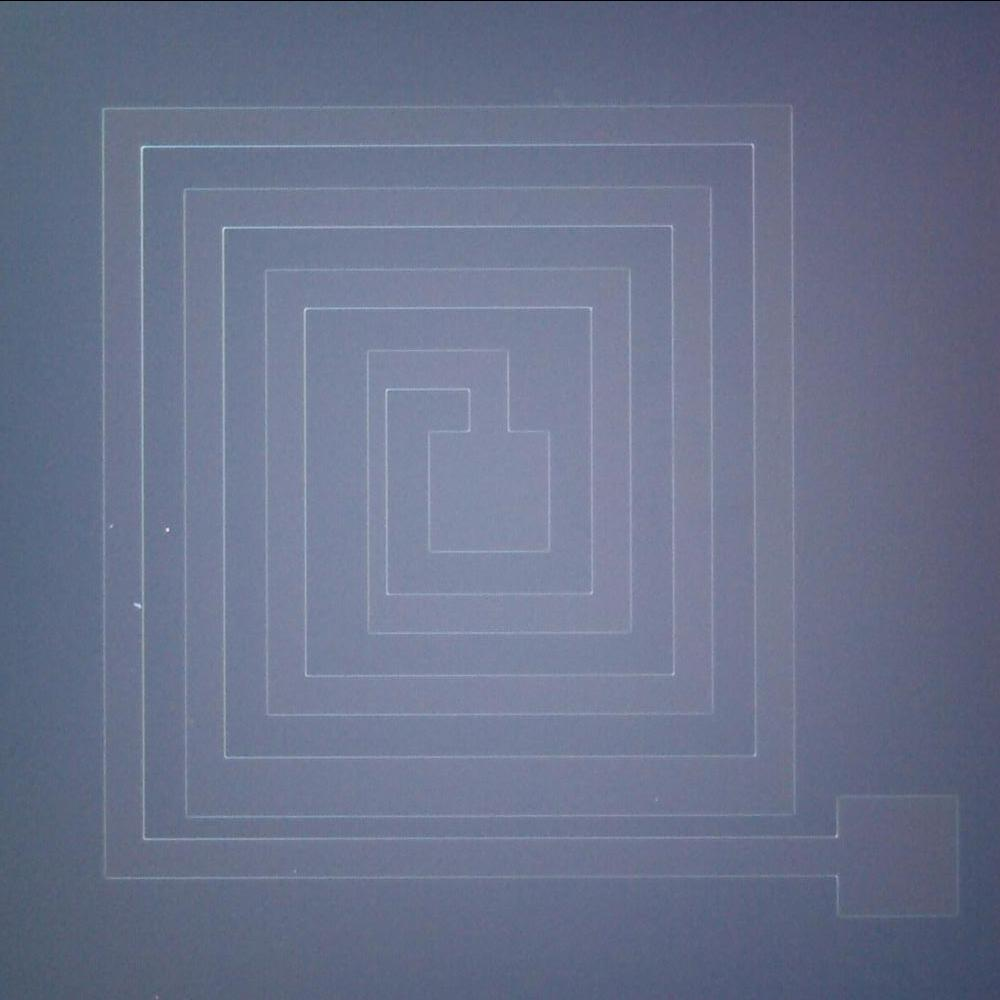dot: (123, 586, 154, 619), (156, 511, 182, 548), (96, 512, 122, 542)
fat circuit: (174, 745, 802, 820)
thin circuit: (352, 333, 402, 641)
